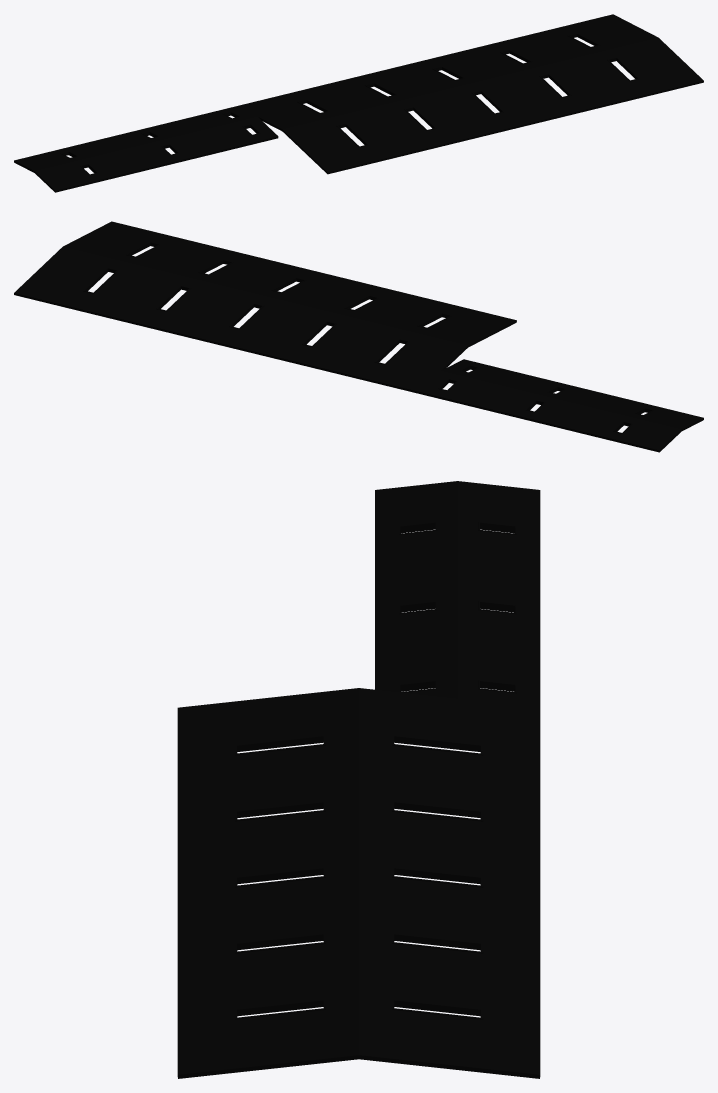
The model's file is SM_MERGED_BP_GY_Ceil_C_1.glb.
3 renders of one model, top to bottom at view 1: azimuth 30°, elevation 25°; view 2: azimuth 150°, elevation 25°; view 3: azimuth 270°, elevation 25°, orthographic. The views are drawn at different scales.
Visible parts, largest first — view 1: SM_MERGED_BP_GY_Ceil_C_1; view 2: SM_MERGED_BP_GY_Ceil_C_1; view 3: SM_MERGED_BP_GY_Ceil_C_1.
Part boxes in pixels (<box>): SM_MERGED_BP_GY_Ceil_C_1: <box>14,14,703,192</box>; SM_MERGED_BP_GY_Ceil_C_1: <box>14,221,703,452</box>; SM_MERGED_BP_GY_Ceil_C_1: <box>177,481,540,1078</box>.
Bounding box in the file's own units: 139 × 2.65 × 36.52.
1 material, 1 textured.
